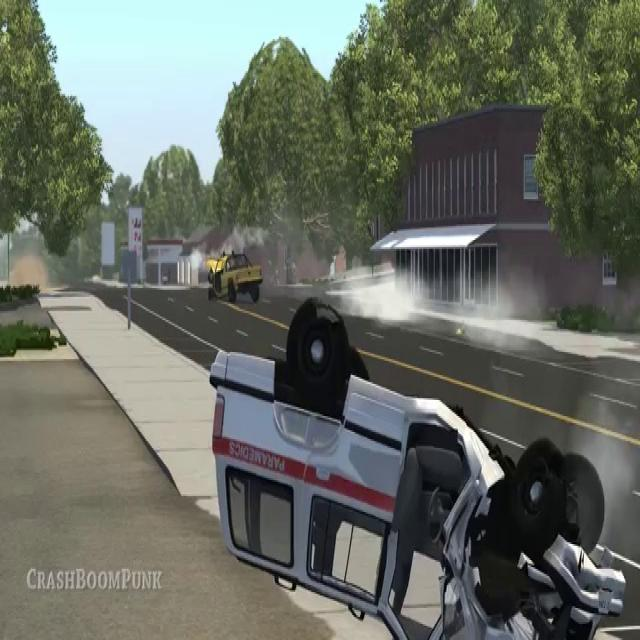severe: (203, 282, 630, 640)
